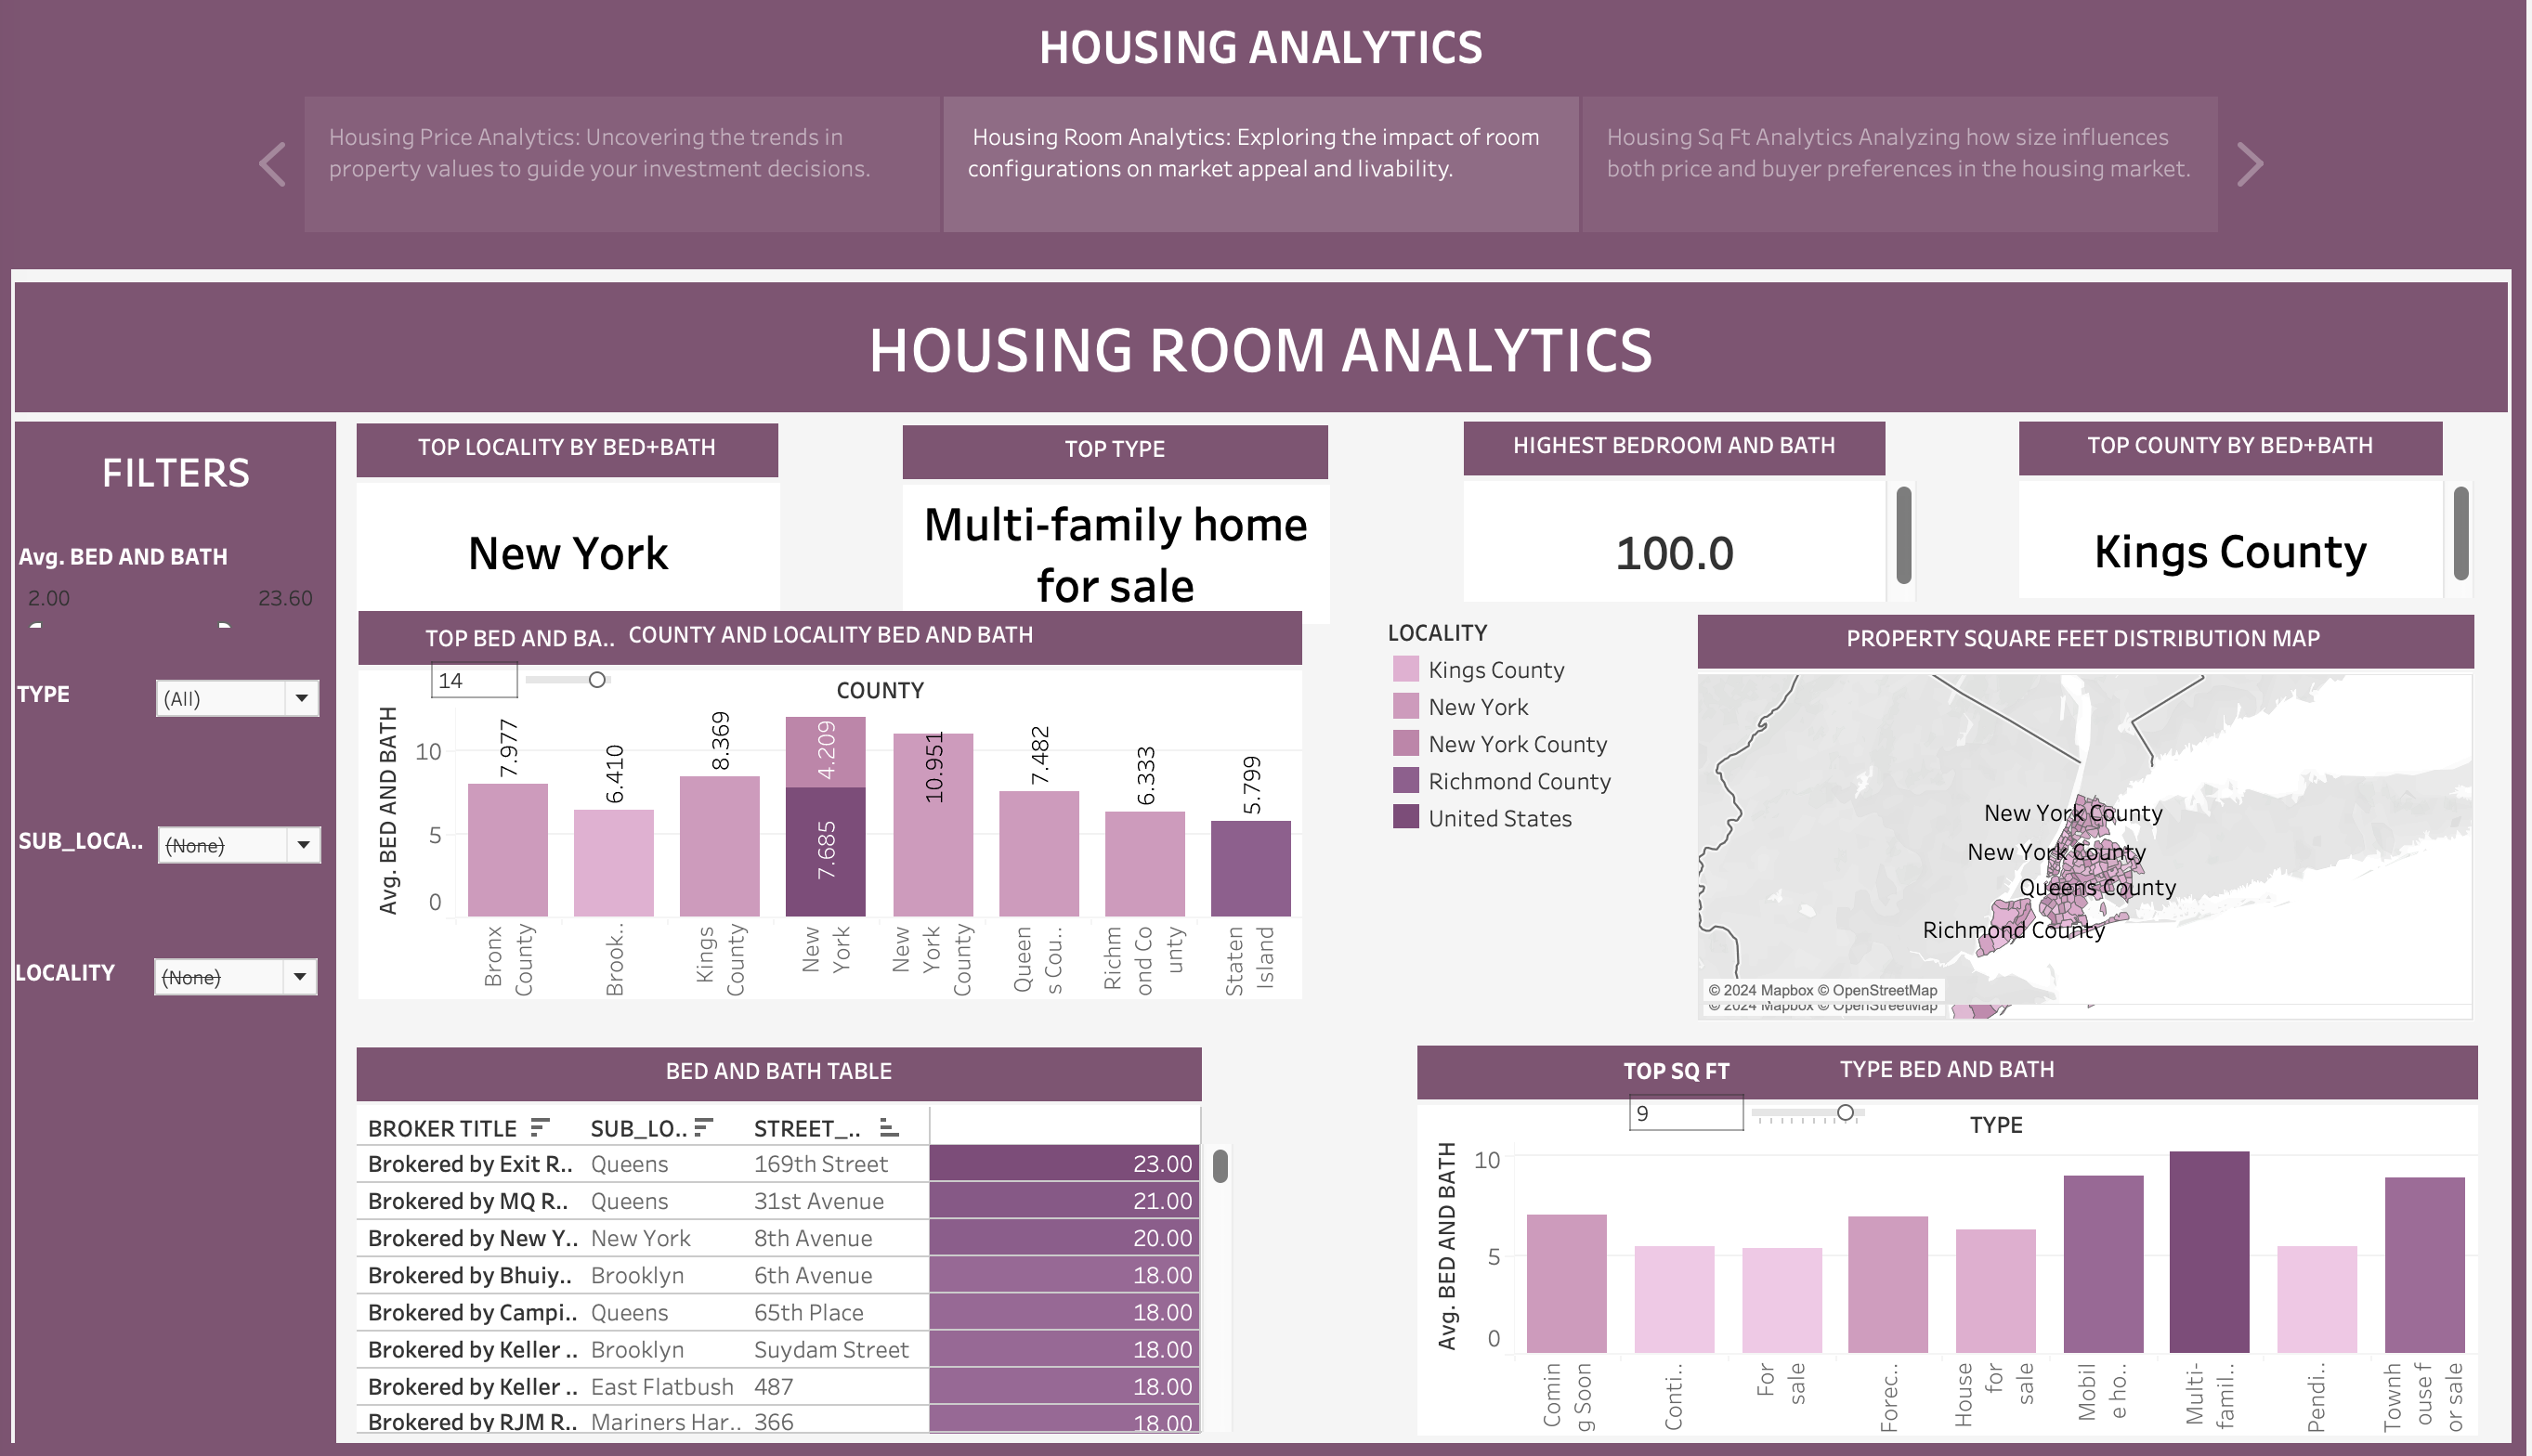

Layout of this report page (visuals, bound fields, positions):
{"tool":"tableau","page":{"name":"HOUSING ROOM ","canvas":[1000,1000],"units":"permille","ordinal":1},"visuals":[{"type":"text","box":[1.5,11.1,996.9,110.7]},{"type":"worksheet","title":"HIGH B+B","mark":"Automatic","box":[580.8,130.1,260.7,153.1]},{"type":"worksheet","title":"TOP LOCALITY BY B","mark":"Automatic","box":[137.9,131.4,285.3,215.6]},{"type":"worksheet","title":"TOP TYPE BY B","mark":"Automatic","box":[356.6,132.7,288.4,253.8]},{"type":"text","box":[2.3,142.7,127.6,57.8]},{"type":"filter","title":"B+B DISTRIBUTION","param":"[federated.0kvu42z1iqwr2r0zqkhqn0pgwafr].[avg:Calculation_4734409112868782080:qk","box":[3.1,231.2,123,75]},{"type":"worksheet","title":"COUNTY LOCALITY B","mark":"Automatic","rows":["Calculation_4734409112868782080"],"cols":["F12"],"box":[138.7,290.8,378,332.9]},{"type":"worksheet","title":"PRICE DISTRIBUTION","mark":"Automatic","box":[674.9,294,310.5,346.9]},{"type":"worksheet","title":"B+B DISTRIBUTION","mark":"Automatic","box":[674.9,294,310.5,333.3]},{"type":"legend","title":"COUNTY LOCALITY B","param":"[federated.0kvu42z1iqwr2r0zqkhqn0pgwafr].[none:F11:nk]","box":[550.4,295.2,107.6,180.8]},{"type":"parameter","param":"[Parameters].[Parameter 5]","box":[166,301.4,76.9,82.4]},{"type":"filter","title":"B+B DISTRIBUTION","param":"[federated.0kvu42z1iqwr2r0zqkhqn0pgwafr].[none:F2:nk]","box":[2.3,345.6,123,54.1]},{"type":"filter","title":"B+B DISTRIBUTION","param":"[federated.0kvu42z1iqwr2r0zqkhqn0pgwafr].[none:F13:nk]","box":[3.1,469.9,123,54.1]},{"type":"filter","title":"B+B DISTRIBUTION","param":"[federated.0kvu42z1iqwr2r0zqkhqn0pgwafr].[none:F11:nk]","box":[1.5,581.8,123,54.1]},{"type":"worksheet","title":"TYPE B+B","mark":"Automatic","rows":["Calculation_4734409112868782080"],"cols":["F2"],"box":[562.6,661.8,424.3,333.3]},{"type":"worksheet","title":"B TABLE","mark":"Square","rows":["F1","F13","F14"],"box":[138.4,663,409.7,328.4]},{"type":"parameter","param":"[Parameters].[Parameter 3]","box":[644.9,669.1,99.2,82.4]}]}

Visuals, with their boxes on the dashboard's canvas, which has no fixed pixel size, in thousandths of its width and height (x1, y1, x2, y2). These are canvas units, not pixel positions in the 2532x1456 screenshot, which may show the page scaled, cropped or inside an application window:
text: rect(2, 11, 998, 122)
"HIGH B+B" worksheet: rect(581, 130, 842, 283)
"TOP LOCALITY BY B" worksheet: rect(138, 131, 423, 347)
"TOP TYPE BY B" worksheet: rect(357, 133, 645, 386)
text: rect(2, 143, 130, 200)
"B+B DISTRIBUTION" filter: rect(3, 231, 126, 306)
"COUNTY LOCALITY B" worksheet: rect(139, 291, 517, 624)
"PRICE DISTRIBUTION" worksheet: rect(675, 294, 985, 641)
"B+B DISTRIBUTION" worksheet: rect(675, 294, 985, 627)
"COUNTY LOCALITY B" legend: rect(550, 295, 658, 476)
parameter: rect(166, 301, 243, 384)
"B+B DISTRIBUTION" filter: rect(2, 346, 125, 400)
"B+B DISTRIBUTION" filter: rect(3, 470, 126, 524)
"B+B DISTRIBUTION" filter: rect(2, 582, 124, 636)
"TYPE B+B" worksheet: rect(563, 662, 987, 995)
"B TABLE" worksheet (Square marks): rect(138, 663, 548, 991)
parameter: rect(645, 669, 744, 752)
